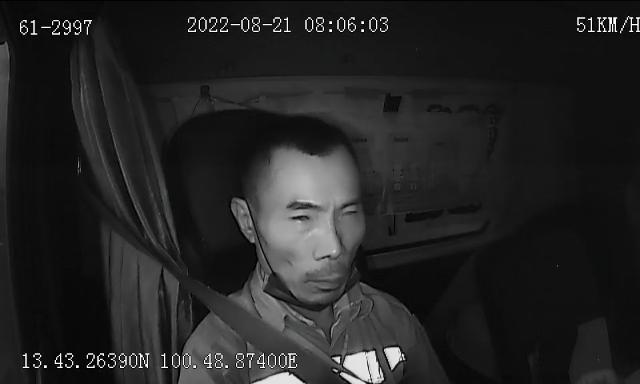SafeDriving: (334, 201, 366, 224), (285, 206, 319, 226)
Seatbelt: (157, 252, 351, 384)
